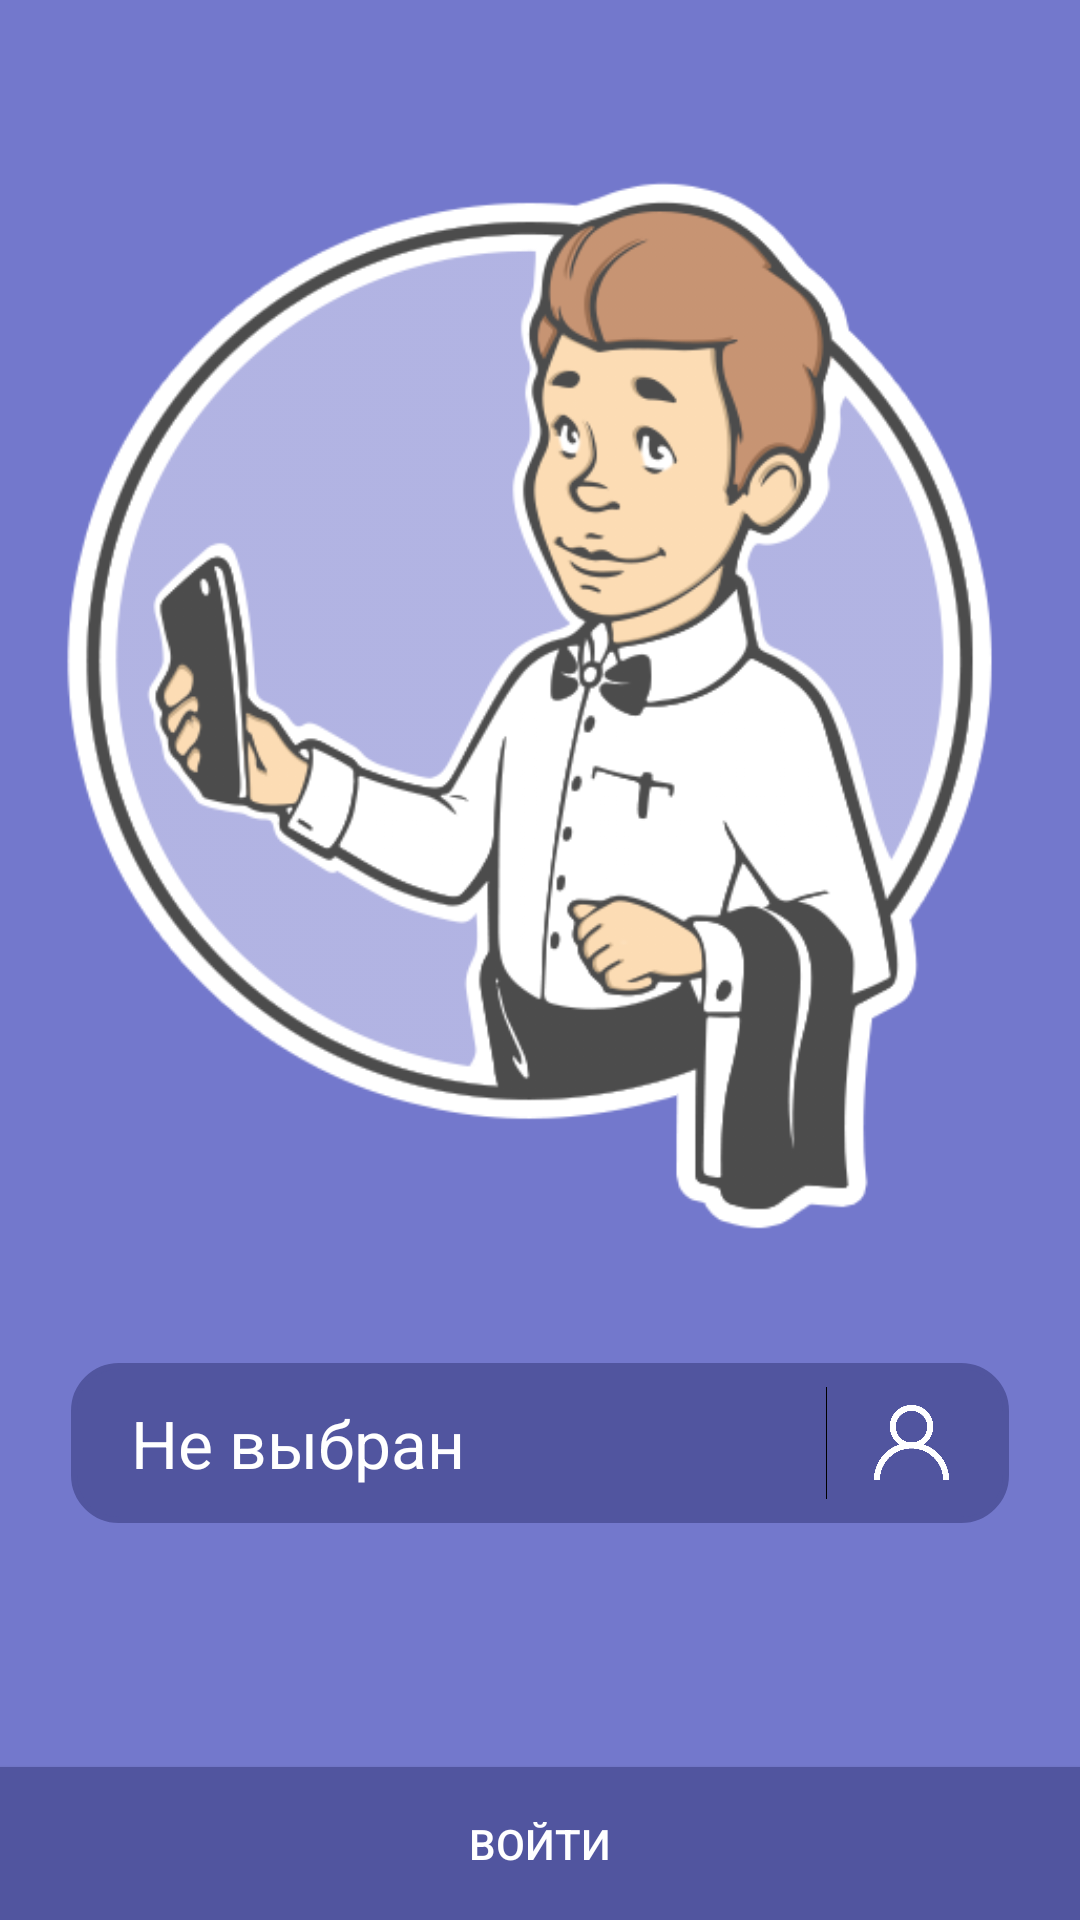

Icons on this 1080px×1920px Android screen, each with its box as (x1, y1, x2, y2):
user: (874, 1405, 949, 1480)
